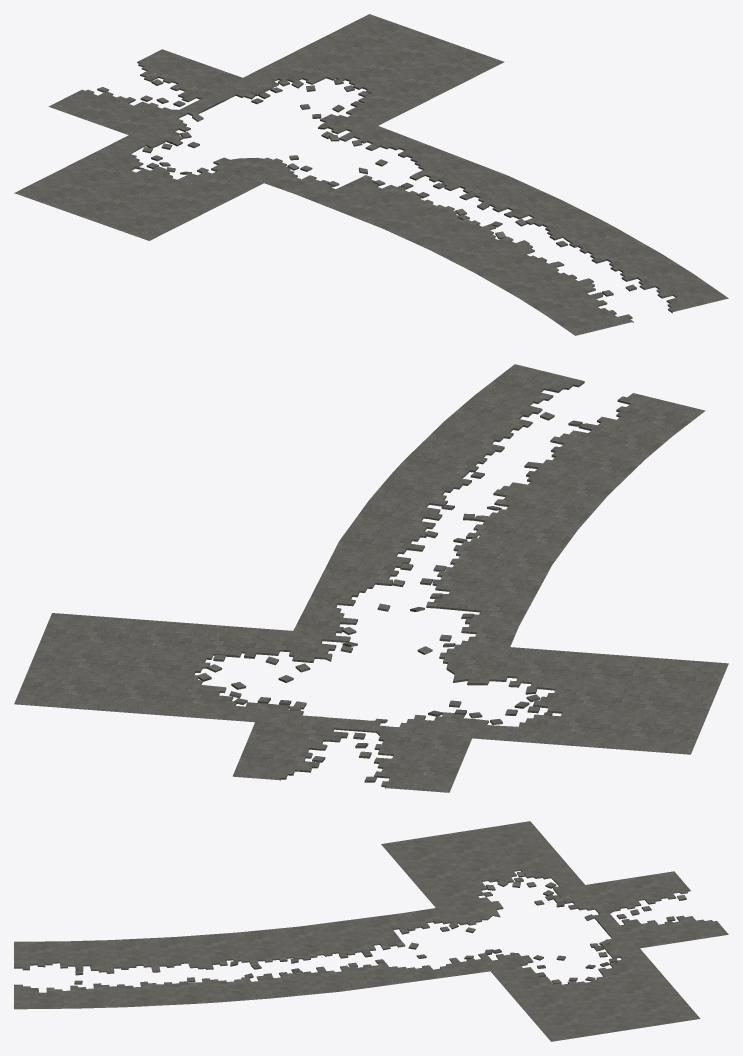
Rendered from Dungeon2_Ground_Tiles_01.FBX.
3 renders of one model, top to bottom at view 1: azimuth 30°, elevation 25°; view 2: azimuth 150°, elevation 25°; view 3: azimuth 270°, elevation 25°, orthographic. The views are drawn at different scales.
Visible parts, largest first — view 1: Dungeon2_Ground_Tiles_01; view 2: Dungeon2_Ground_Tiles_01; view 3: Dungeon2_Ground_Tiles_01.
Boxes of the visible parts, x1,y1,x2,y2 form: Dungeon2_Ground_Tiles_01: (14,14,728,335); Dungeon2_Ground_Tiles_01: (14,364,728,792); Dungeon2_Ground_Tiles_01: (14,821,728,1041).
Bounding box in the file's own units: 41.47 × 0.5755 × 56.76.
